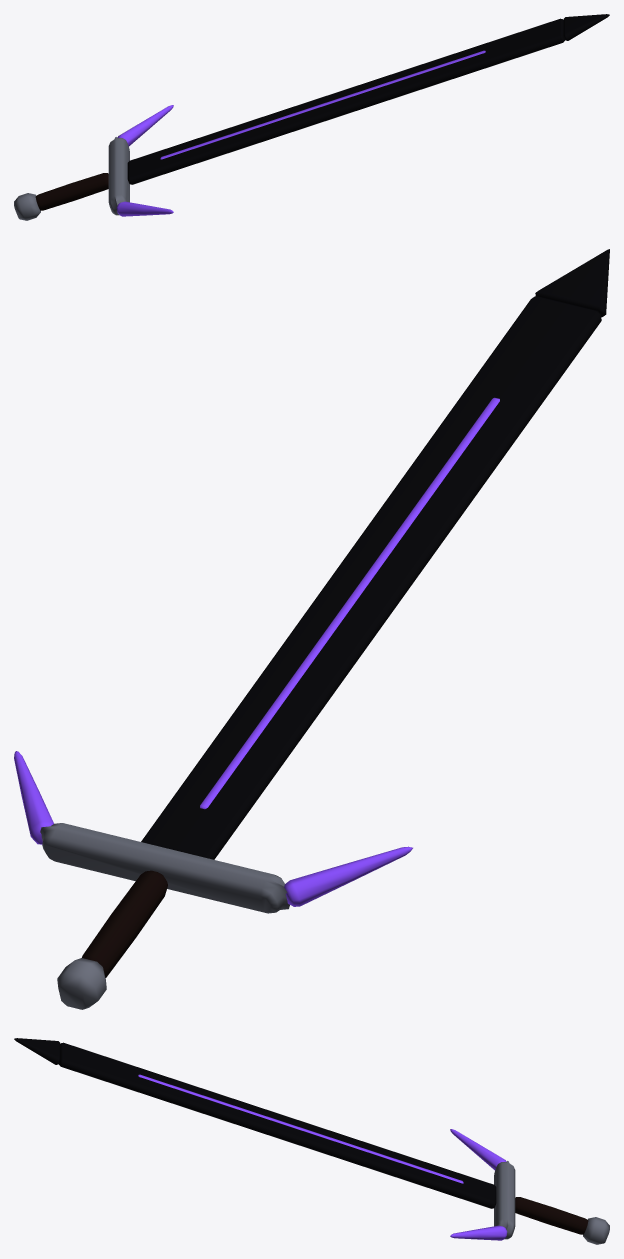
Rendered from Arma_LaminaAstralPartida.fbx.
3 views of the same model, one above another, from view 1: azimuth 90°, elevation 25°; view 2: azimuth 150°, elevation 25°; view 3: azimuth 270°, elevation 25° (orthographic). The views are drawn at different scales.
Parts seen in each view (by area): view 1: Piece; view 2: Piece; view 3: Piece.
Boxes of the visible parts, box(x1,y1,x2,y2) form: Piece: box(14, 14, 609, 220); Piece: box(14, 249, 609, 1009); Piece: box(14, 1038, 609, 1244).
Size of the model in its own units: 0.5184 by 0.4628 by 1.22.
